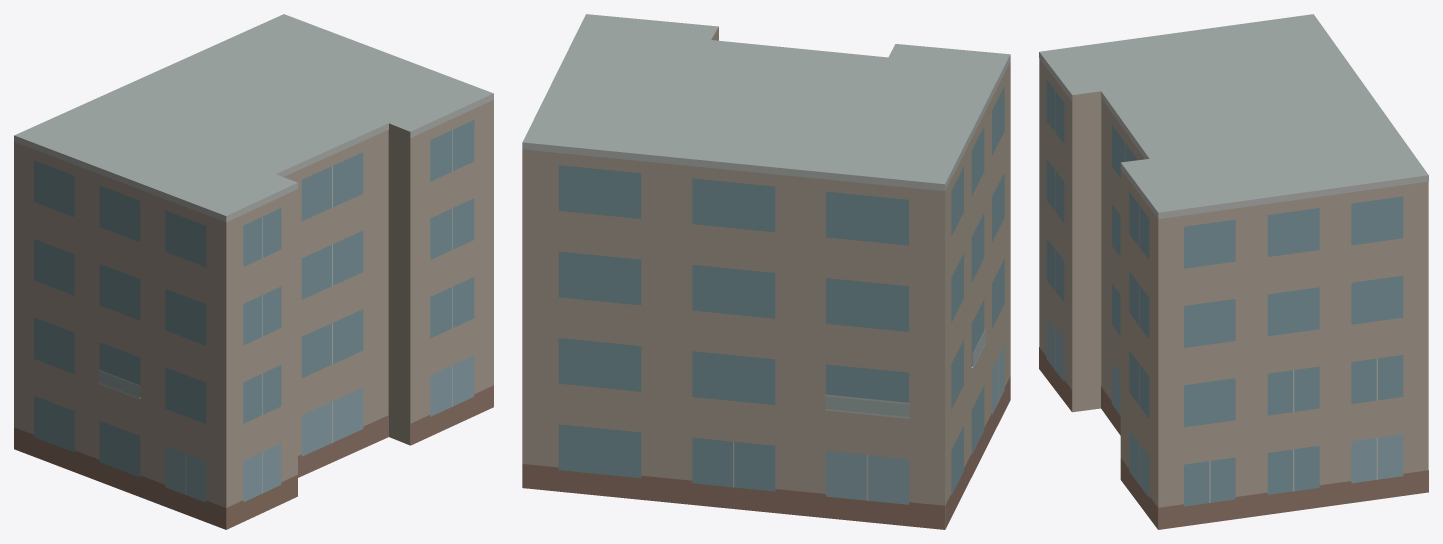
The model's file is survey-upis-32922167.glb.
3 views of the same model, side by side, from view 1: azimuth 30°, elevation 25°; view 2: azimuth 150°, elevation 25°; view 3: azimuth 270°, elevation 25° (orthographic). The views are drawn at different scales.
Visible parts, largest first — view 1: survey-upis-32922167.tmp; view 2: survey-upis-32922167.tmp; view 3: survey-upis-32922167.tmp.
Part boxes in pixels (bbox=[...]): survey-upis-32922167.tmp: bbox=[14, 14, 493, 529]; survey-upis-32922167.tmp: bbox=[522, 14, 1010, 529]; survey-upis-32922167.tmp: bbox=[1039, 14, 1428, 529].
Bounding box in the file's own units: 16.27 × 12.1 × 13.48.
